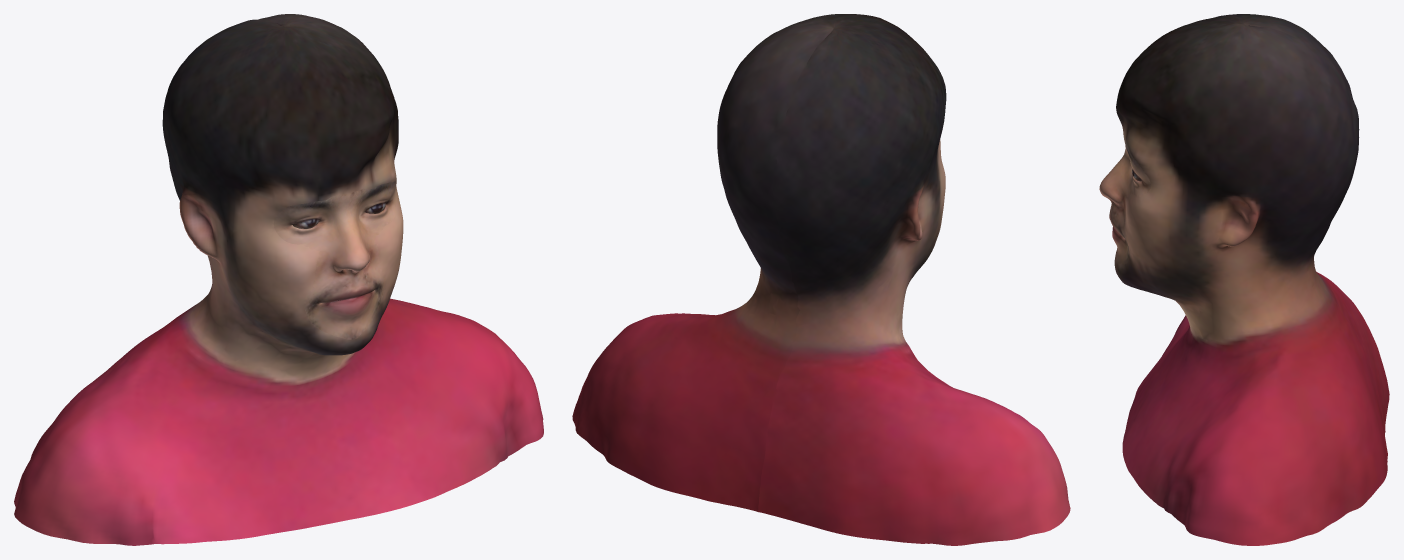
Rendered from myself.gltf.
3 views of the same model, side by side, from view 1: azimuth 30°, elevation 25°; view 2: azimuth 150°, elevation 25°; view 3: azimuth 270°, elevation 25° (orthographic). The views are drawn at different scales.
Visible parts, largest first — view 1: model; view 2: model; view 3: model.
Boxes of the visible parts, x1,y1,x2,y2 form: model: (14, 14, 543, 545); model: (572, 14, 1070, 545); model: (1099, 14, 1389, 545).
Bounding box in the file's own units: 0.4619 × 0.3914 × 0.2514.
Materials: 1 (1 with a texture image).
